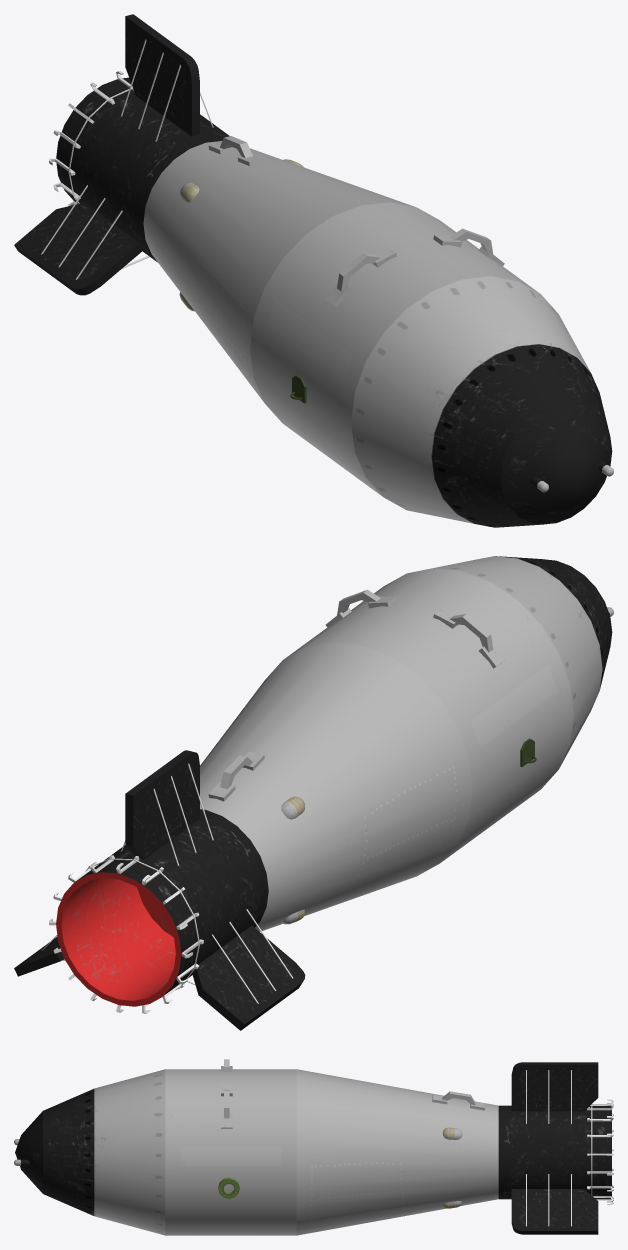
The picture shows the model from 3 angles, top to bottom: view 1: azimuth 30°, elevation 25°; view 2: azimuth 150°, elevation 25°; view 3: azimuth 270°, elevation 25°; orthographic projection. The views are drawn at different scales.
Visible parts, largest first — view 1: AN-602; view 2: AN-602; view 3: AN-602.
Boxes of the visible parts, x1,y1,x2,y2 form: AN-602: [14, 14, 613, 527]; AN-602: [14, 556, 613, 1030]; AN-602: [14, 1059, 613, 1235].
Size of the model in its own units: 220 by 224 by 740.
1 material, 1 textured.
